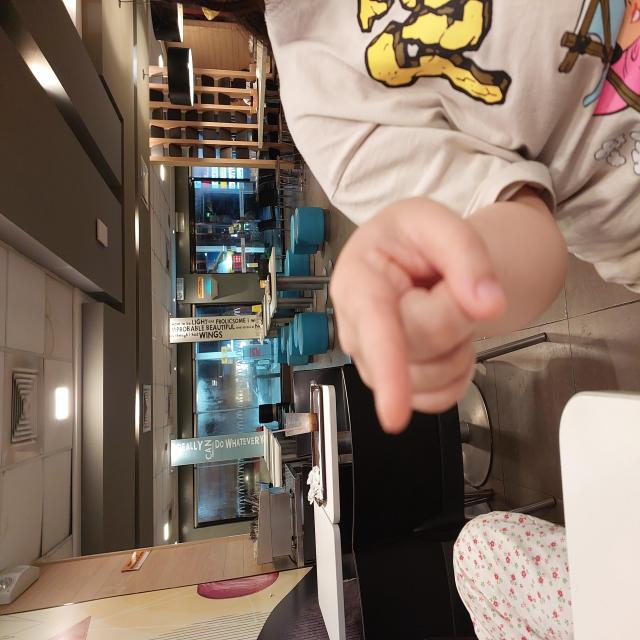Z: (205, 327, 445, 506)
